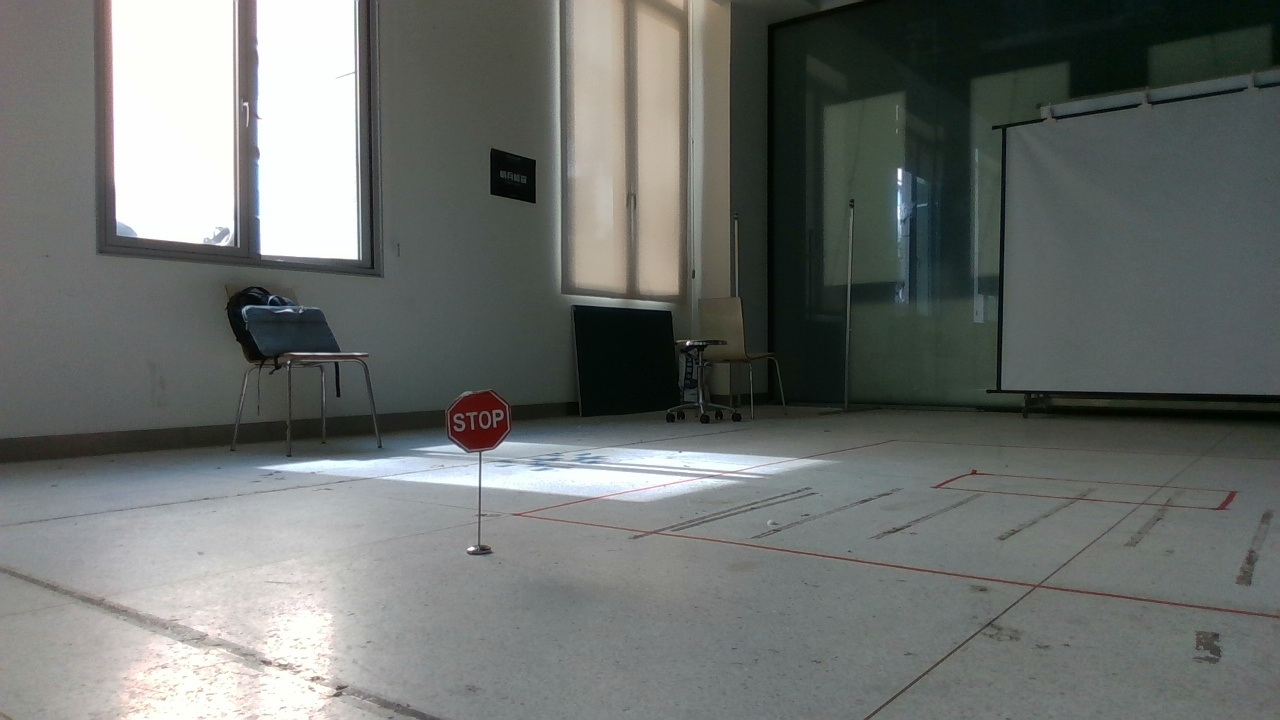stop_sign: (441, 388, 526, 457)
